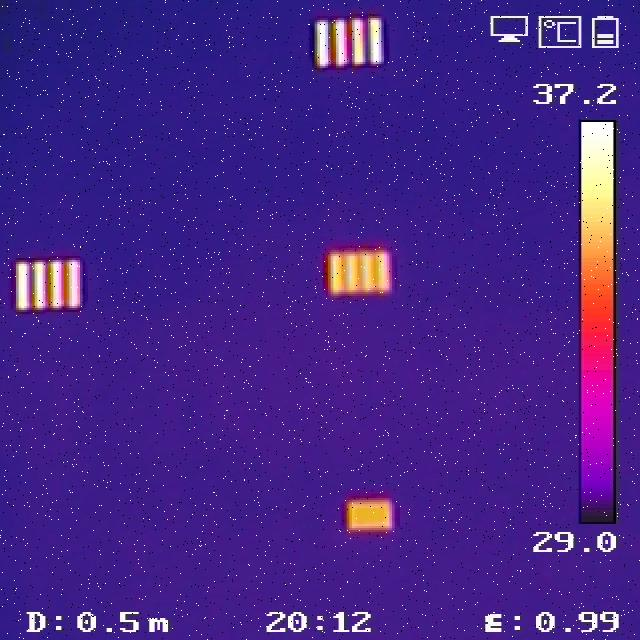Distinguishable 4-bar target: (314, 13, 386, 66), (8, 260, 87, 308)
Indistinguishable 4-bar target: (344, 501, 392, 532)
threshold 4-bar target: (334, 248, 394, 293)
